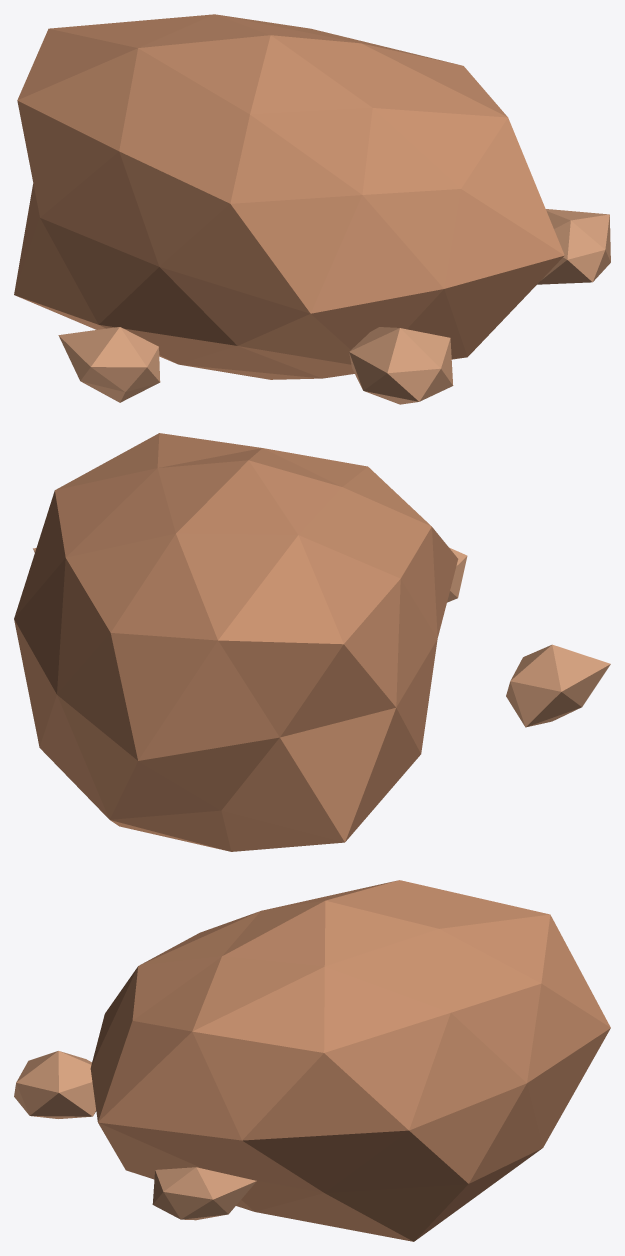
File: BoulderA.glb
The picture shows the model from 3 angles, top to bottom: view 1: azimuth 30°, elevation 25°; view 2: azimuth 150°, elevation 25°; view 3: azimuth 270°, elevation 25°; orthographic projection. The views are drawn at different scales.
Parts seen in each view (by area): view 1: Boulder, Spall.002, Spall.001, Spall; view 2: Boulder, Spall.001; view 3: Boulder, Spall.002, Spall.
Part boxes in pixels (x1,y1,x2,y2): Boulder: (14,14,564,379); Spall.002: (349,327,453,404); Spall.001: (58,327,160,402); Spall: (537,209,610,284); Boulder: (14,433,458,851); Spall.001: (506,644,610,727); Boulder: (90,880,610,1241); Spall.002: (14,1051,96,1118); Spall: (152,1167,256,1220).
Bounding box in the file's own units: 2.42 × 1.46 × 2.58.
